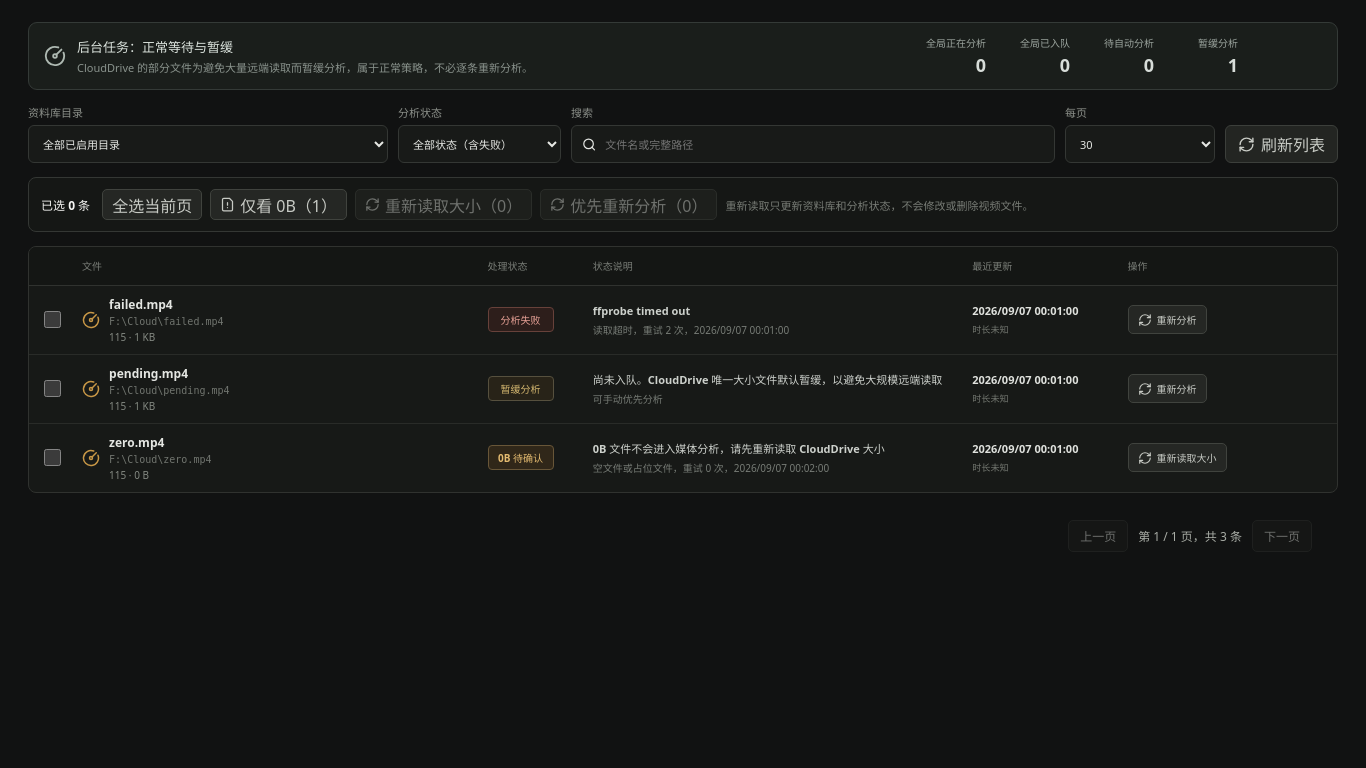
Scenario: MetadataIssuesPage › handles synchronous queue rejection as a partial failure with retained detail
Expected: the text "failed.mp4" is shown, 109,296 -> 173,312
Click the button "全选当前页" at (152, 204), box 102,189 -> 202,220
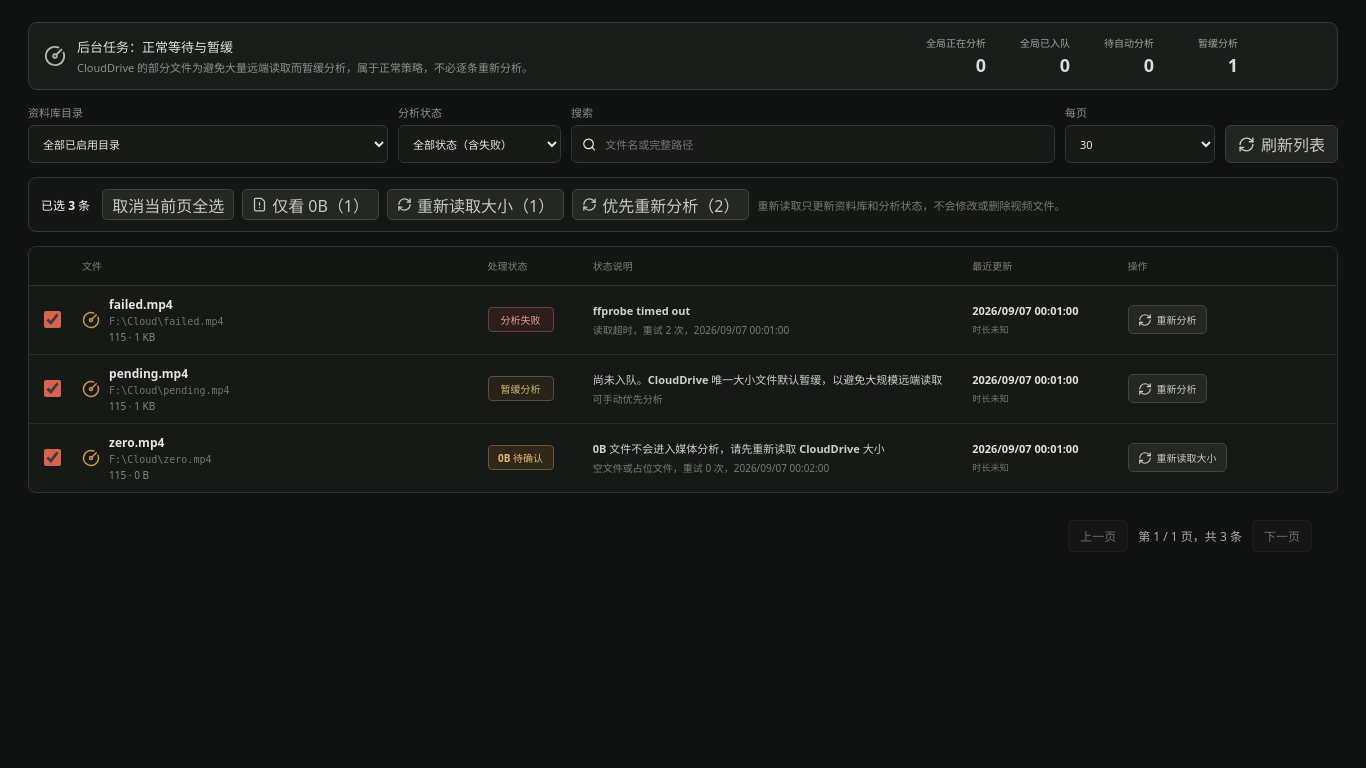
Click the button "优先重新分析（2）" at (661, 204), box 572,189 -> 749,220
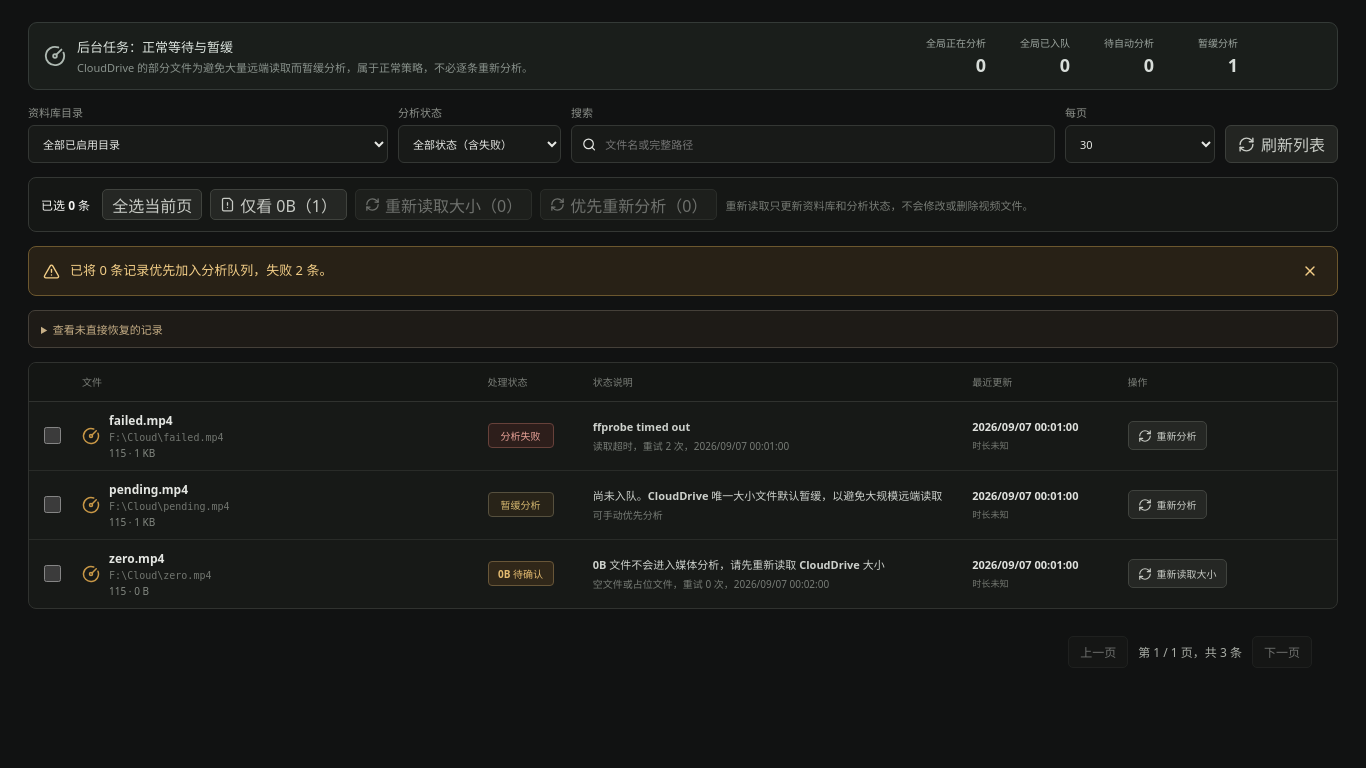
Expected: the text "已将 0 条记录优先加入分析队列，失败 2 条。" is shown, 70,261 -> 332,279
